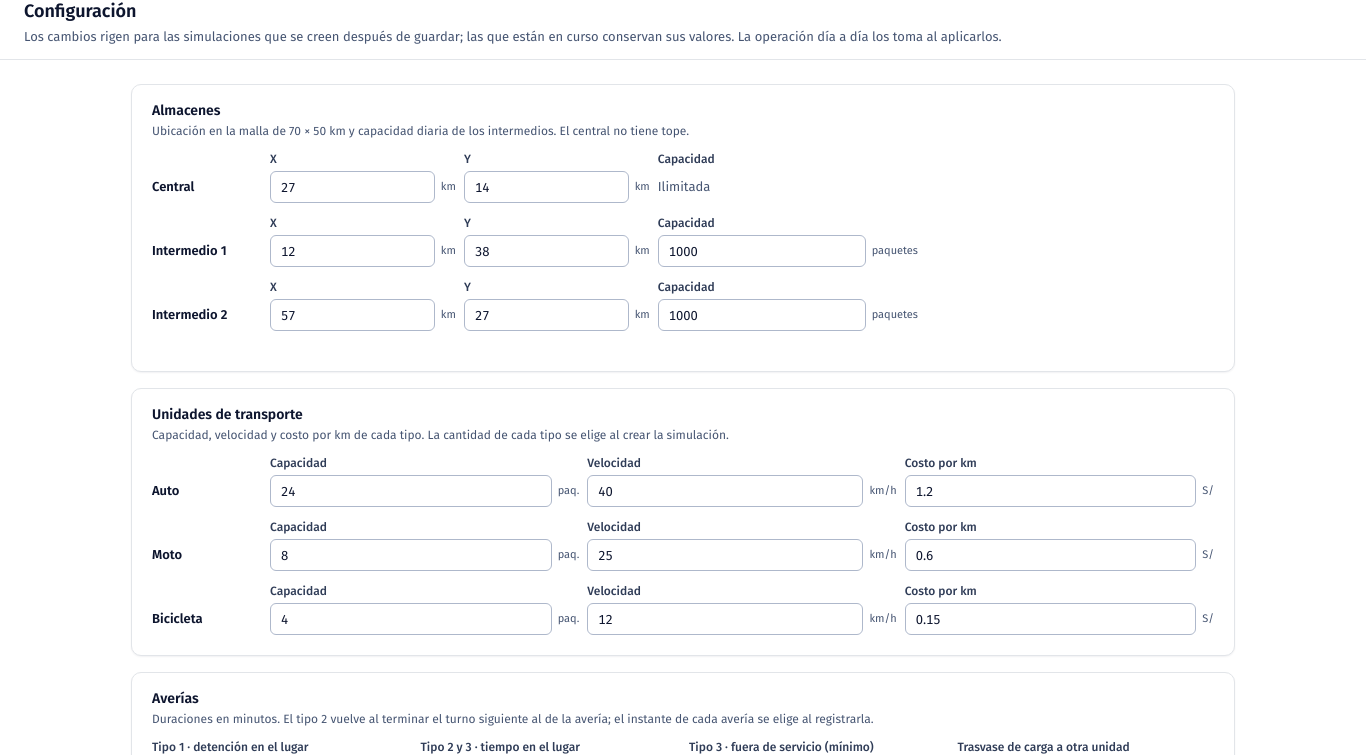
Test: ModuloConfiguracion (B02, B04, B07-B09) › muestra el error junto al campo al salir de él y no envía valores inválidos
Step 1. Replace the text in the field labelled "Velocidad" in the row of "Bicicleta" with "0" → (725, 619), box [587,603,863,635]
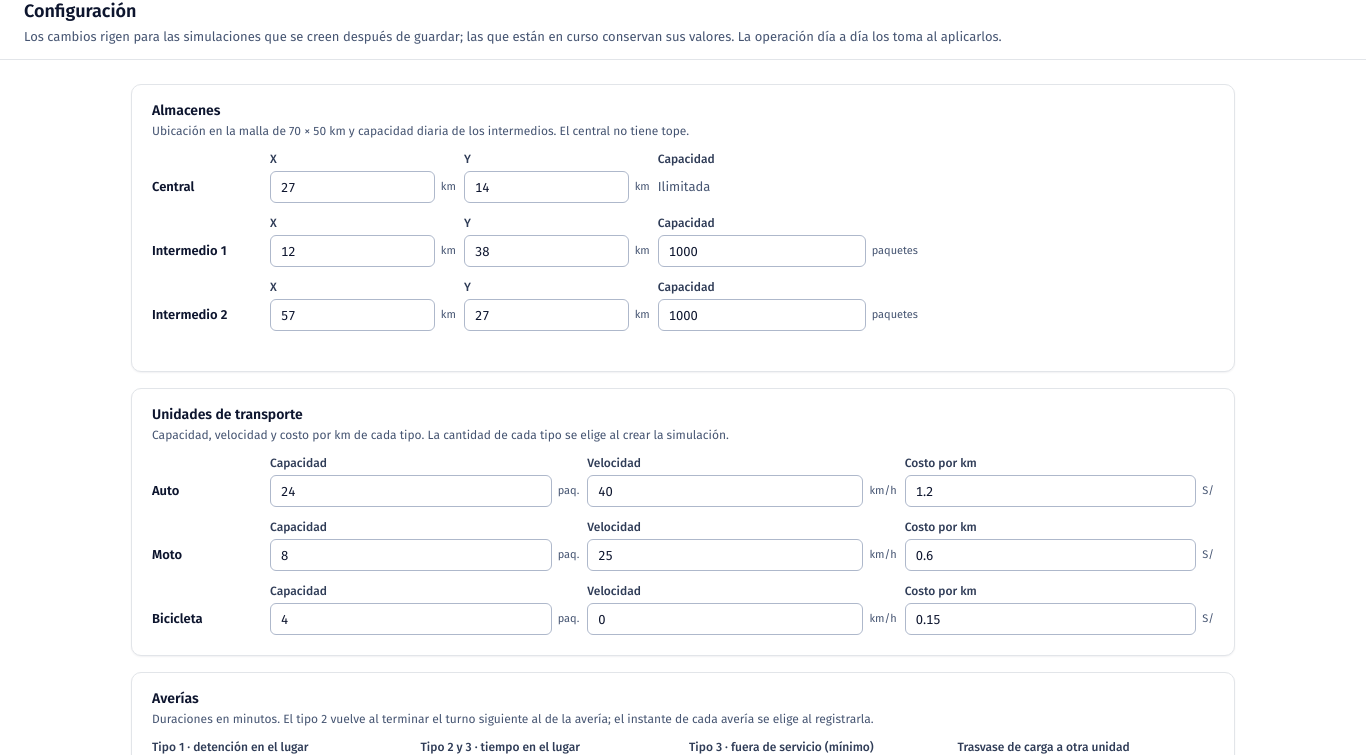
Expected: the text "Debe estar entre 1 y 120 km/h" is not shown
Step 2. Leave the field labelled "Velocidad" in the row of "Bicicleta", box [587,603,863,635]
(page scrolled)
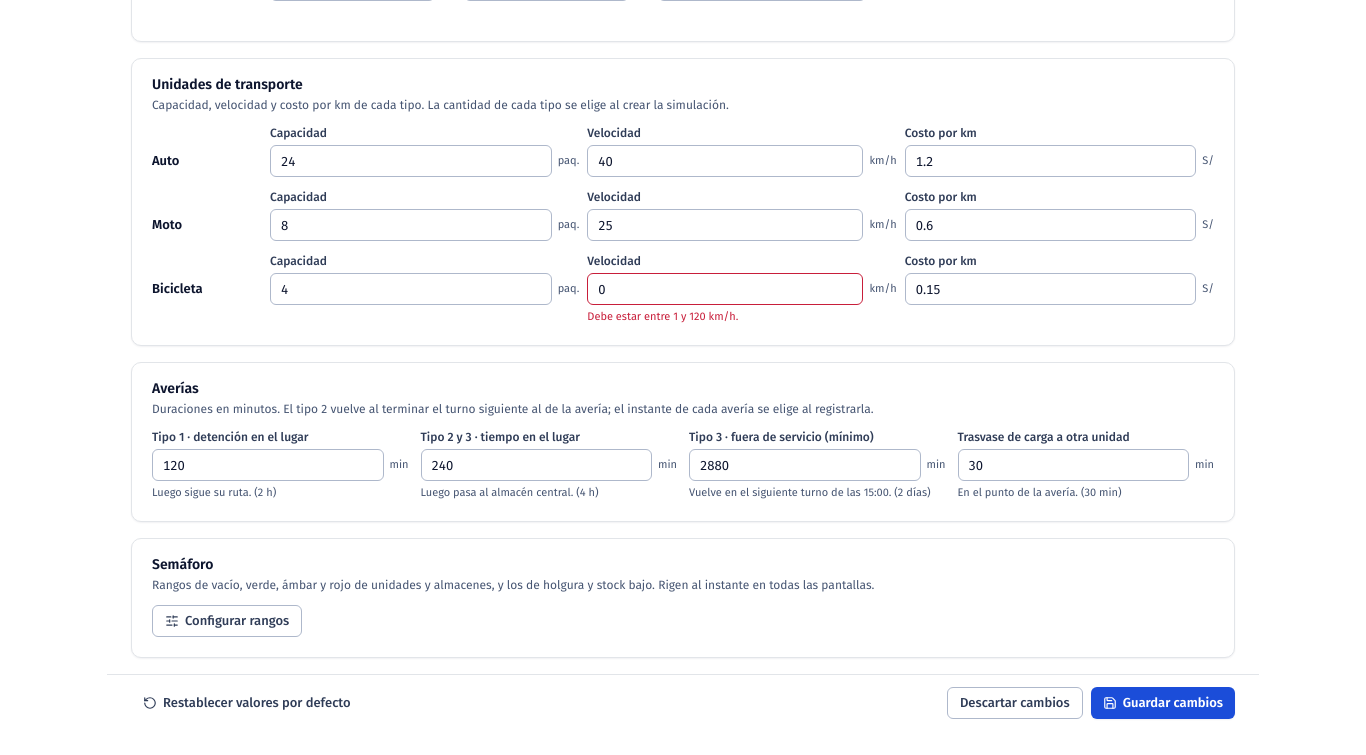
Expected: the text "Debe estar entre 1 y 120 km/h." is shown, [587,310,738,323]
Step 3. Click the button "Guardar cambios" → click(1163, 703), box [1091,687,1235,719]
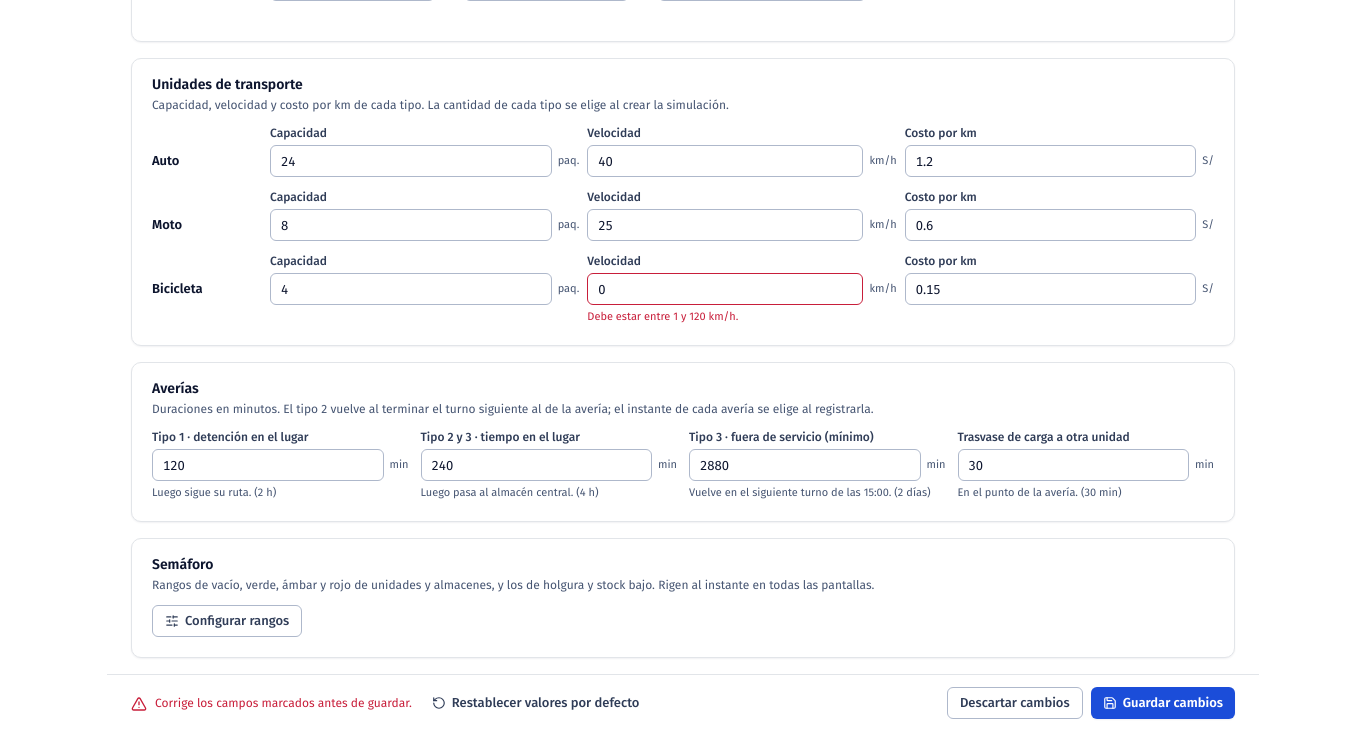
Expected: the text "Corrige los campos marcados antes de guardar." is shown, [155,694,412,710]
